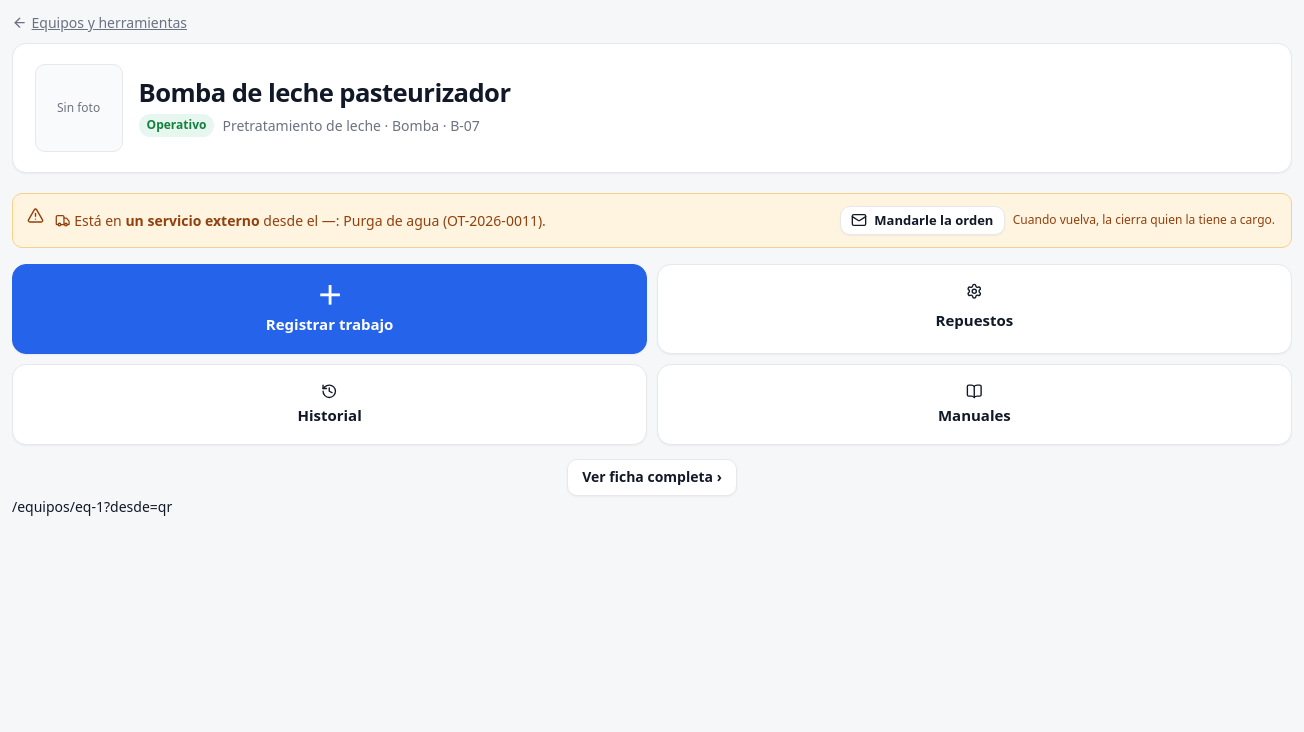
Test: Al pie de la máquina: entrar escaneando el QR › un botón lleva a su pestaña y sale del modo rápido
Step 1. Click the button "Repuestos" → click(974, 309), box [657,264,1292,354]
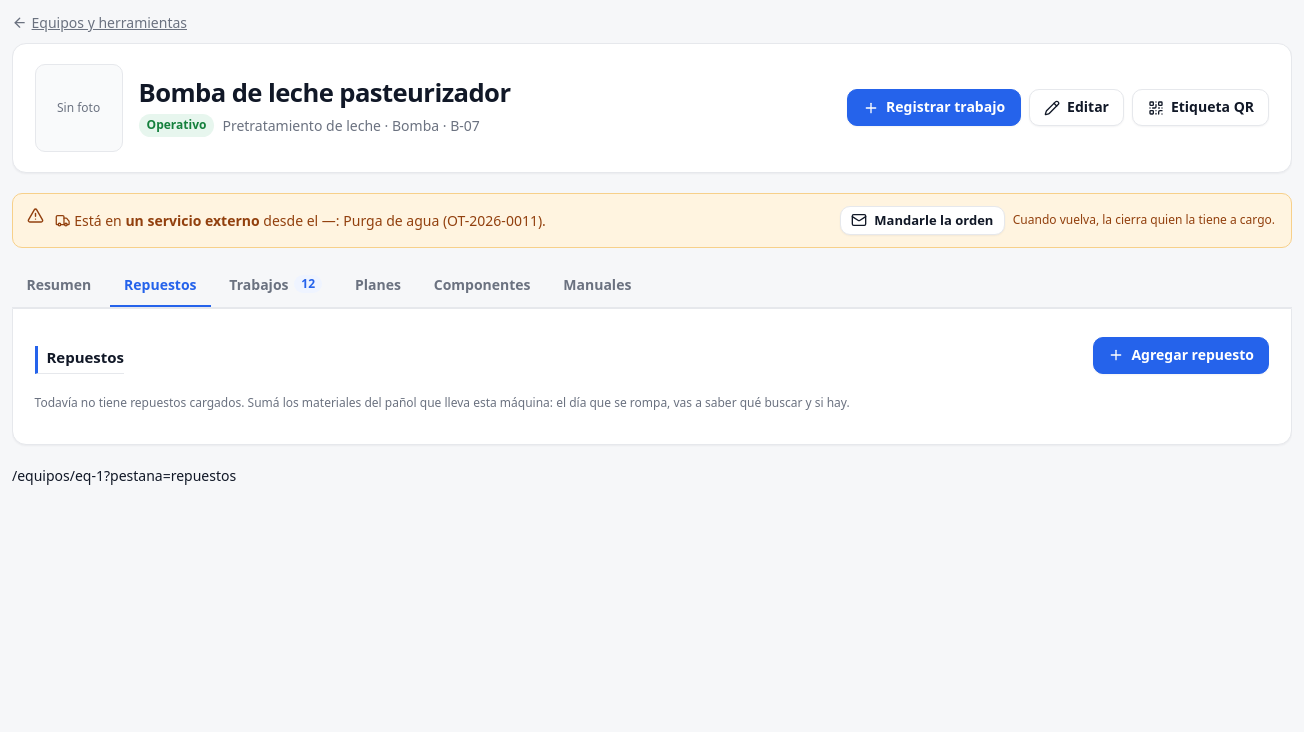
Expected: the text with test id "direccion" reads "/equipos/eq-1?pestana=repuestos", [12,466,236,485]
Expected: the element showing "Resumen Repuestos Trabajos 12 Planes Componentes Manuales" is shown, [12,264,1292,308]
